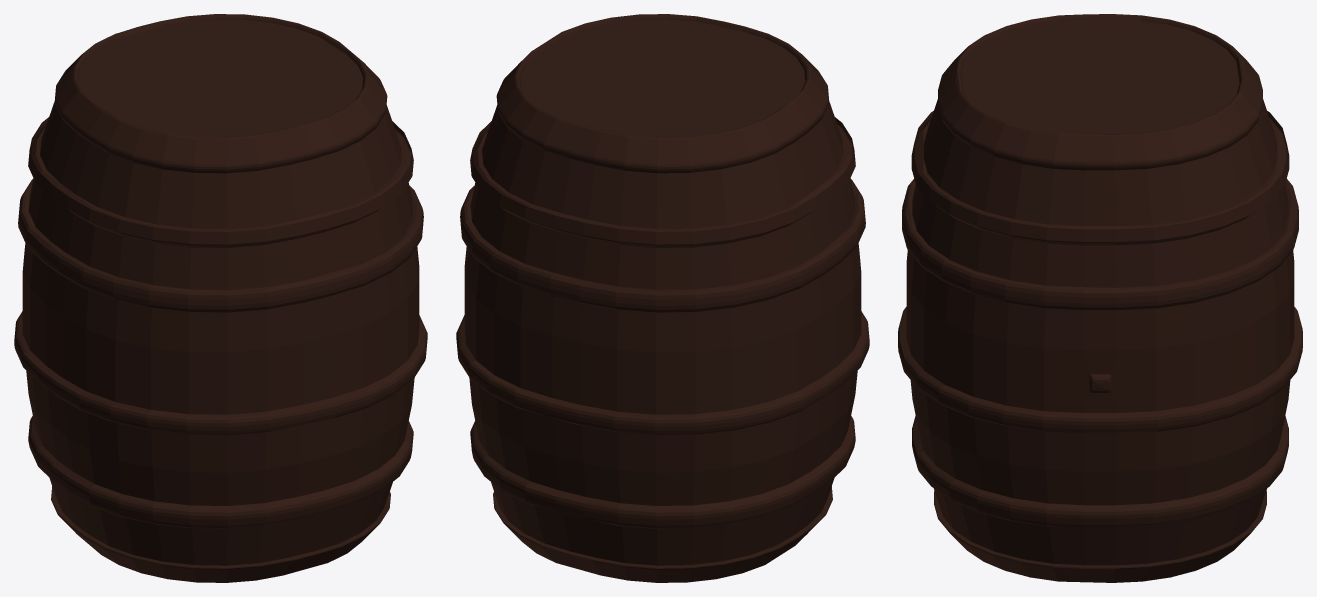
The model's file is barrel1.fbx.
3 views of the same model, side by side, from view 1: azimuth 30°, elevation 25°; view 2: azimuth 150°, elevation 25°; view 3: azimuth 270°, elevation 25° (orthographic).
Parts seen in each view (by area): view 1: Cube; view 2: Cube; view 3: Cube.
Boxes of the visible parts, bbox=[...] form: Cube: bbox=[14, 14, 427, 582]; Cube: bbox=[456, 14, 869, 582]; Cube: bbox=[898, 14, 1302, 582].
Size of the model in its own units: 268 by 327 by 268.
